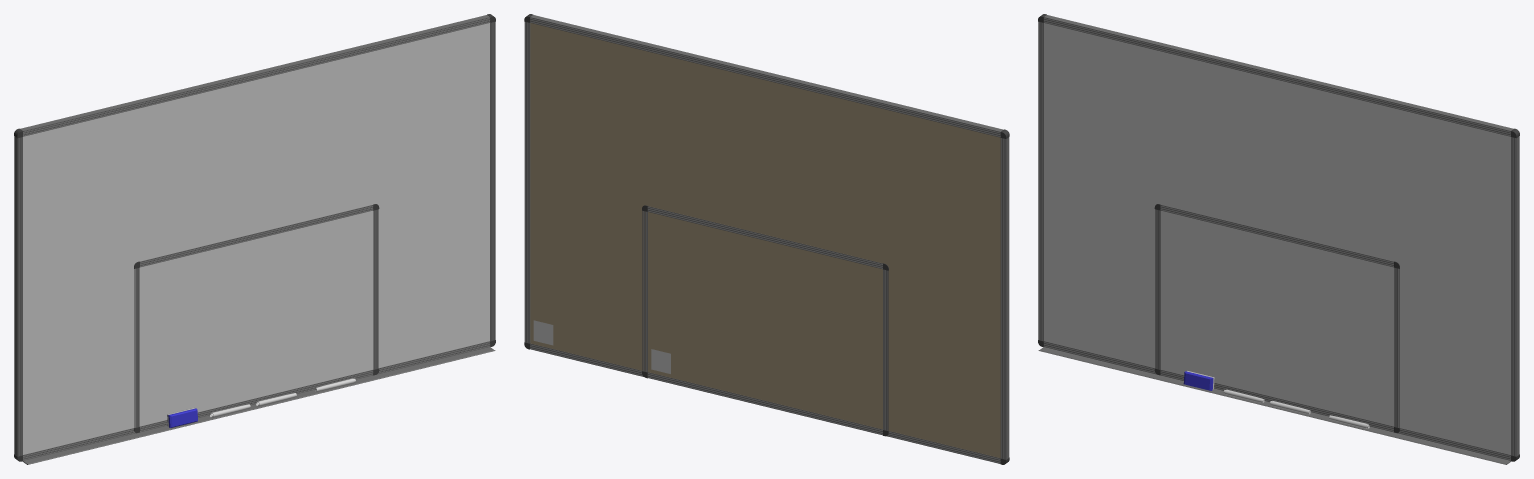
The model's file is ahzkwid_marker.fbx.
3 renders of one model, left to right at view 1: azimuth 30°, elevation 25°; view 2: azimuth 150°, elevation 25°; view 3: azimuth 330°, elevation 25°, orthographic.
Visible parts, largest first — view 1: board big size, render, board, board part2 big size; view 2: board big size, board; view 3: board big size, render, board, board part2 big size, board part2.
Part boxes in pixels (bbox=[...]): board big size: bbox=[14, 14, 495, 461]; render: bbox=[139, 210, 373, 426]; board: bbox=[134, 204, 379, 433]; board part2 big size: bbox=[23, 347, 495, 464]; board big size: bbox=[524, 14, 1009, 464]; board: bbox=[642, 205, 888, 436]; board big size: bbox=[1038, 14, 1519, 461]; render: bbox=[1160, 210, 1394, 426]; board: bbox=[1154, 204, 1399, 433]; board part2 big size: bbox=[1038, 347, 1510, 464]; board part2: bbox=[1156, 375, 1393, 435].
Bounding box in the file's own units: 176 × 116 × 5.51.
